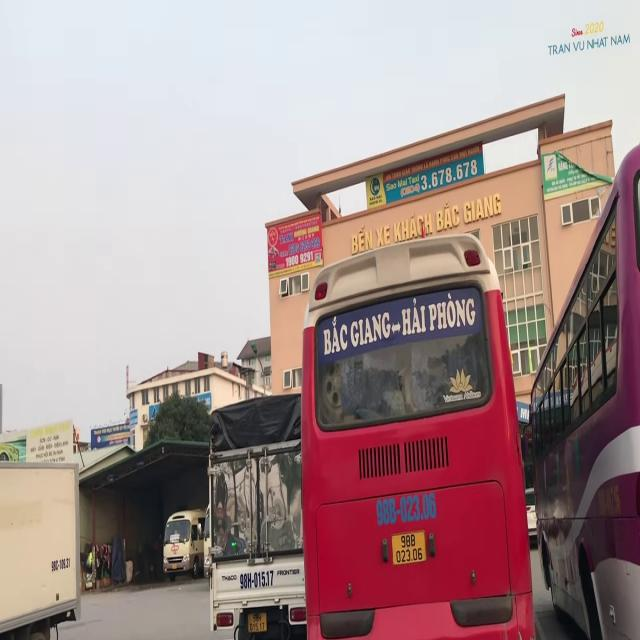bien_vang: (389, 529, 428, 570), (247, 607, 268, 634)
